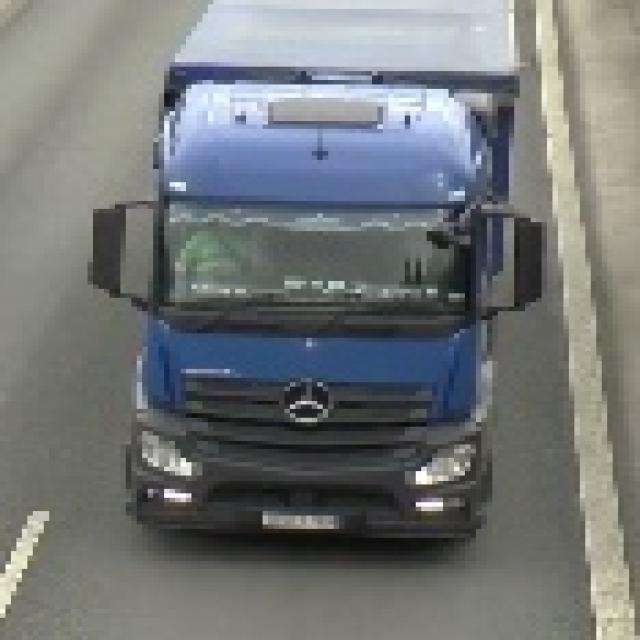TRUCK: (82, 0, 547, 547)
